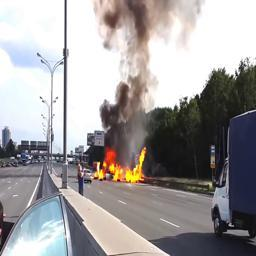fire: (95, 148, 147, 182)
